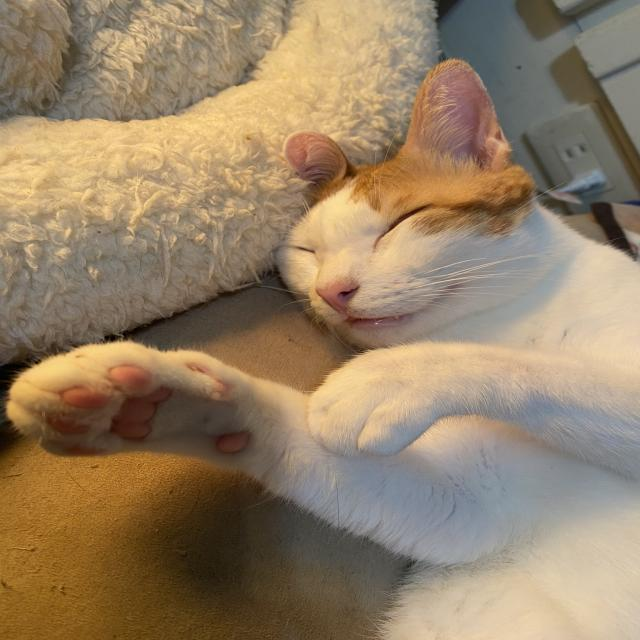cat1: (6, 61, 640, 640)
